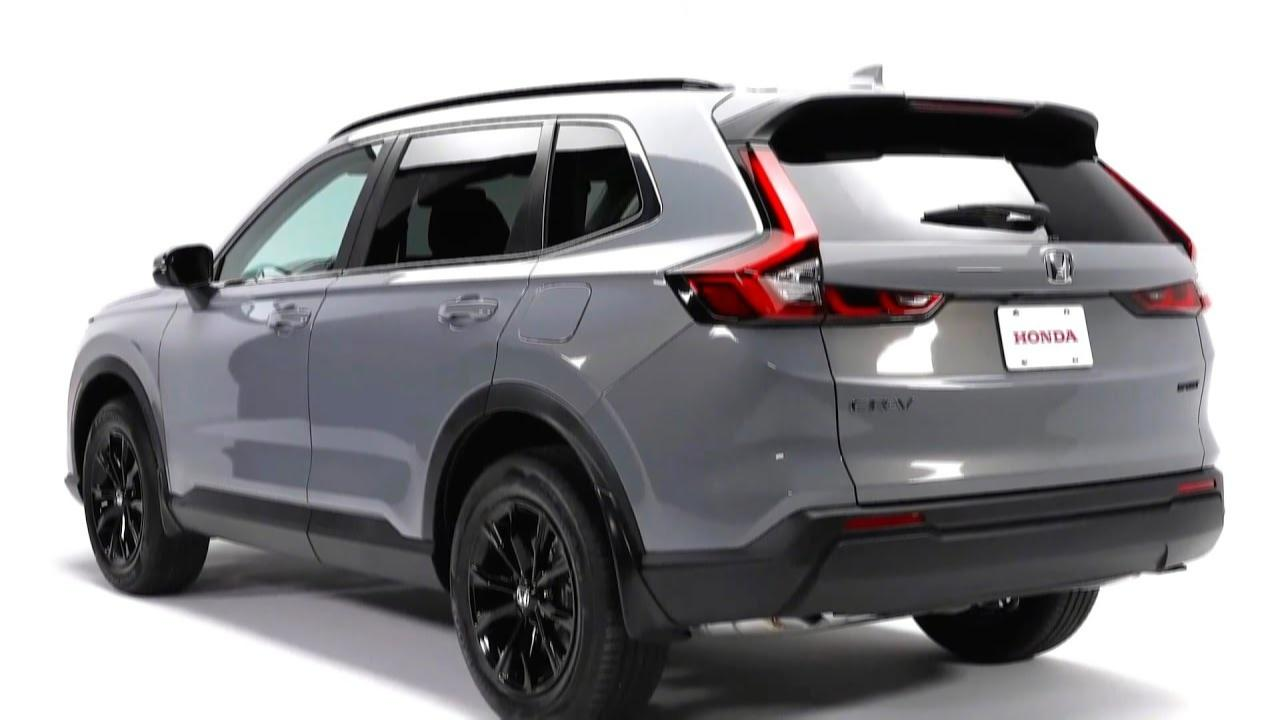Car hood: (748, 93, 1211, 498)
Fender - -F-L-: (66, 280, 178, 494)
Fender - -R-L-: (460, 89, 741, 494)
Passenger-s door - -F-L-: (153, 107, 396, 564)
Passenger-s door - -R-L-: (292, 86, 565, 585)
Rear bumper: (619, 463, 1229, 648)
Rear light - -L-: (665, 136, 954, 326)
Rear light - -R-: (1105, 277, 1212, 320)
Side bumper - -L-: (151, 472, 447, 607)
Side mirror - -L-: (151, 241, 219, 313)
